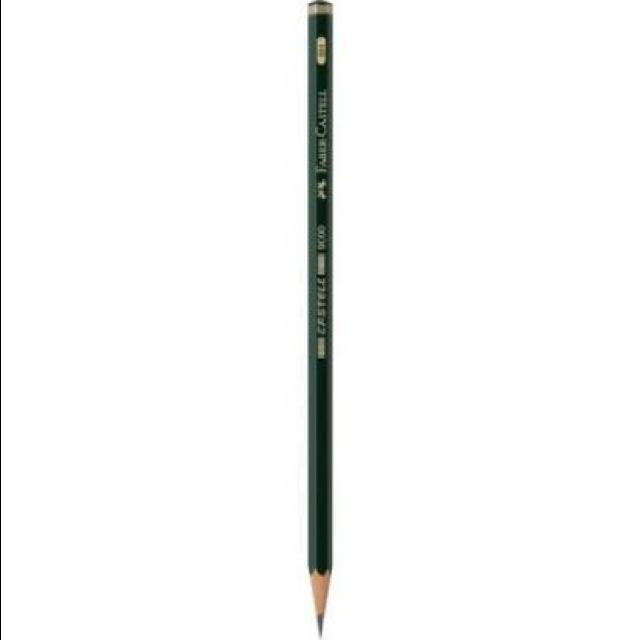Pencil: (298, 543, 336, 640)
